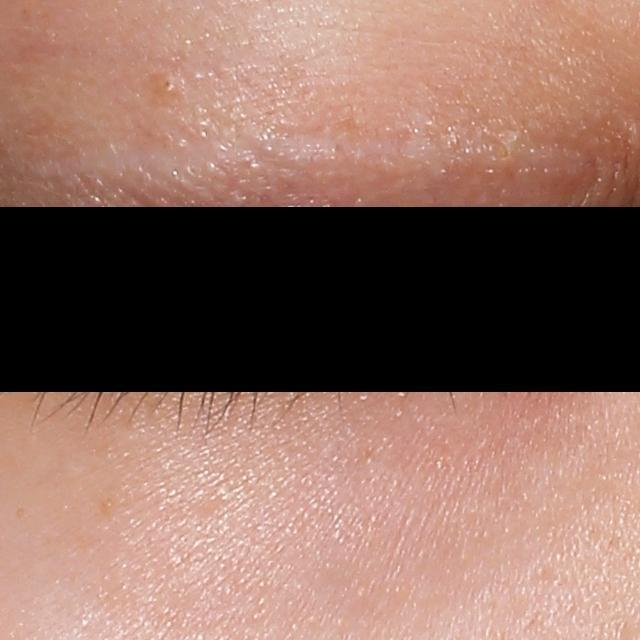comedo: (155, 77, 175, 95)
melasma: (96, 489, 122, 516)
